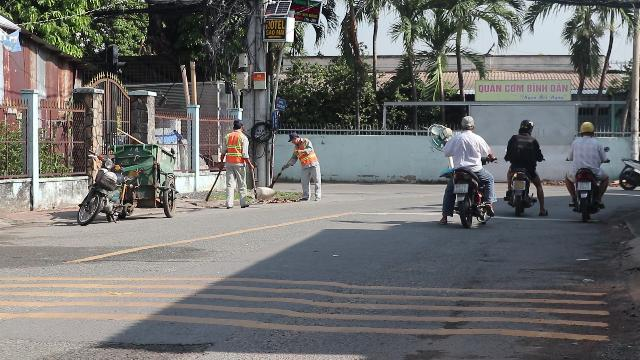licenseplate: (454, 184, 468, 192)
motorcyclist: (436, 114, 496, 226)
nohelmet: (459, 115, 475, 131)
